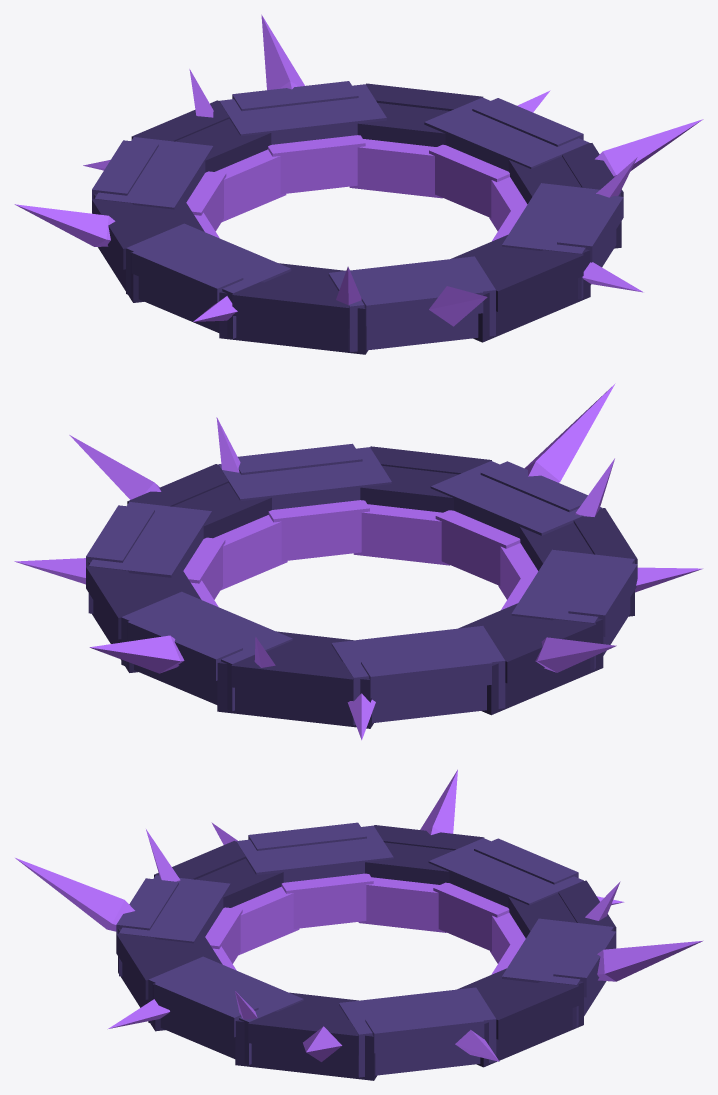
File: portal.gltf
The picture shows the model from 3 angles, top to bottom: view 1: azimuth 30°, elevation 25°; view 2: azimuth 150°, elevation 25°; view 3: azimuth 270°, elevation 25°; orthographic projection. The views are drawn at different scales.
Parts seen in each view (by area): view 1: ring, inner_10_core, inner_11_core, inner_12_core, inner_9_core, spike_5_core, spike_1_core, spike_7_core, inner_8_core, spike_3_core, inner_1_core, spike_2_core (+3 smaller); view 2: ring, inner_2_core, inner_3_core, inner_4_core, inner_1_core, spike_3_core, spike_7_core, spike_5_core, inner_12_core, spike_1_core, inner_5_core, spike_8_core (+4 smaller); view 3: ring, inner_6_core, inner_7_core, inner_8_core, inner_5_core, spike_3_core, spike_7_core, inner_4_core, spike_5_core, inner_9_core, spike_1_core, spike_2_core (+2 smaller).
Part boxes in pixels (x1=…): ring: x1=92, y1=81, x2=623, y2=354; inner_10_core: x1=268, y1=135, x2=365, y2=194; inner_11_core: x1=349, y1=139, x2=442, y2=198; inner_12_core: x1=429, y1=144, x2=509, y2=217; inner_9_core: x1=215, y1=149, x2=286, y2=222; spike_5_core: x1=14, y1=204, x2=115, y2=246; spike_1_core: x1=595, y1=119, x2=703, y2=177; spike_7_core: x1=261, y1=14, x2=304, y2=90; inner_8_core: x1=186, y1=171, x2=226, y2=231; spike_3_core: x1=429, y1=286, x2=487, y2=326; inner_1_core: x1=489, y1=177, x2=527, y2=231; spike_2_core: x1=582, y1=262, x2=643, y2=292; ring: x1=86, y1=443, x2=637, y2=728; inner_2_core: x1=268, y1=500, x2=369, y2=561; inner_3_core: x1=353, y1=504, x2=449, y2=565; inner_4_core: x1=435, y1=510, x2=520, y2=585; inner_1_core: x1=213, y1=515, x2=287, y2=590; spike_3_core: x1=524, y1=383, x2=615, y2=482; spike_7_core: x1=89, y1=635, x2=184, y2=673; spike_5_core: x1=535, y1=637, x2=616, y2=672; inner_12_core: x1=183, y1=537, x2=225, y2=599; spike_1_core: x1=69, y1=435, x2=161, y2=499; inner_5_core: x1=498, y1=543, x2=538, y2=599; spike_8_core: x1=14, y1=558, x2=85, y2=584; ring: x1=116, y1=822, x2=616, y2=1080; inner_6_core: x1=281, y1=873, x2=373, y2=928; inner_7_core: x1=358, y1=877, x2=446, y2=932; inner_8_core: x1=433, y1=882, x2=509, y2=951; inner_5_core: x1=231, y1=886, x2=299, y2=955; spike_3_core: x1=15, y1=858, x2=134, y2=931; spike_7_core: x1=597, y1=940, x2=703, y2=981; inner_4_core: x1=205, y1=907, x2=242, y2=963; spike_5_core: x1=420, y1=769, x2=457, y2=834; inner_9_core: x1=490, y1=912, x2=525, y2=963; spike_1_core: x1=303, y1=1026, x2=342, y2=1061; spike_2_core: x1=108, y1=999, x2=169, y2=1028.
Size of the model in its own units: 3.07 by 0.5204 by 3.2.
Materials: 4 (4 with a texture image).
